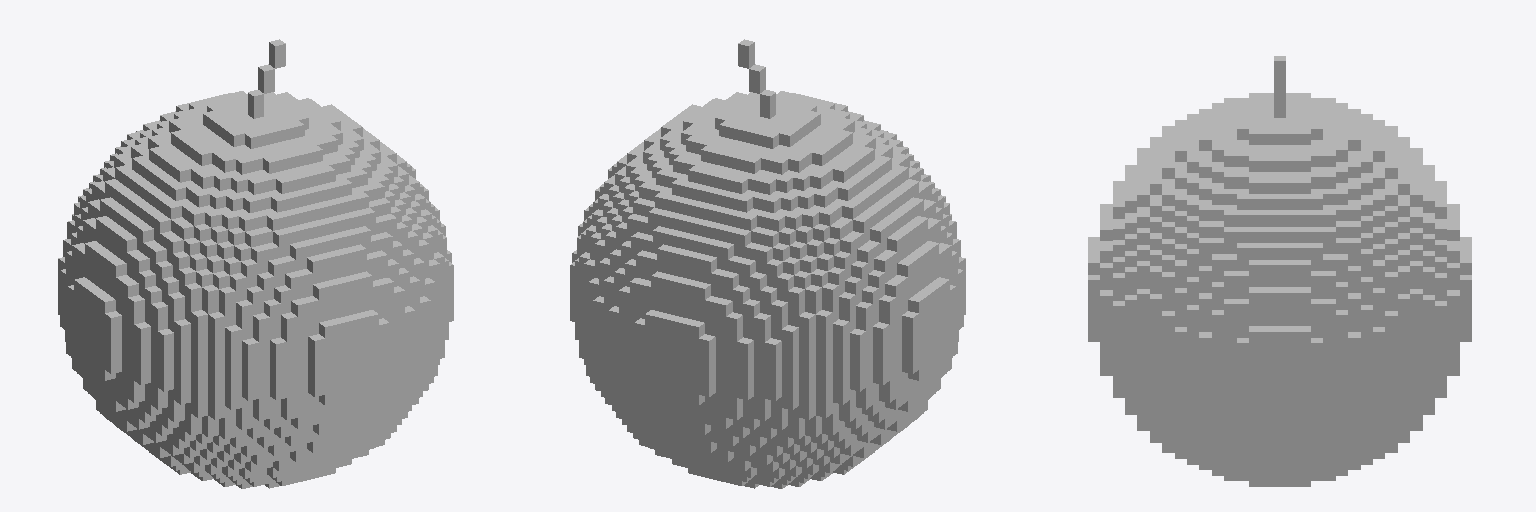
File: bomb.obj
3 renders of one model, left to right at view 1: azimuth 30°, elevation 25°; view 2: azimuth 150°, elevation 25°; view 3: azimuth 270°, elevation 25°, orthographic.
Visible parts, largest first — view 1: object 1; view 2: object 1; view 3: object 1.
Boxes of the visible parts, x1=… form: object 1: x1=58, y1=39, x2=453, y2=488; object 1: x1=570, y1=39, x2=965, y2=488; object 1: x1=1088, y1=56, x2=1471, y2=486.
Bounding box in the file's own units: 3.1 × 3.7 × 3.1.